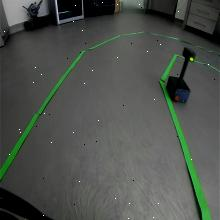green: (182, 46, 196, 63)
